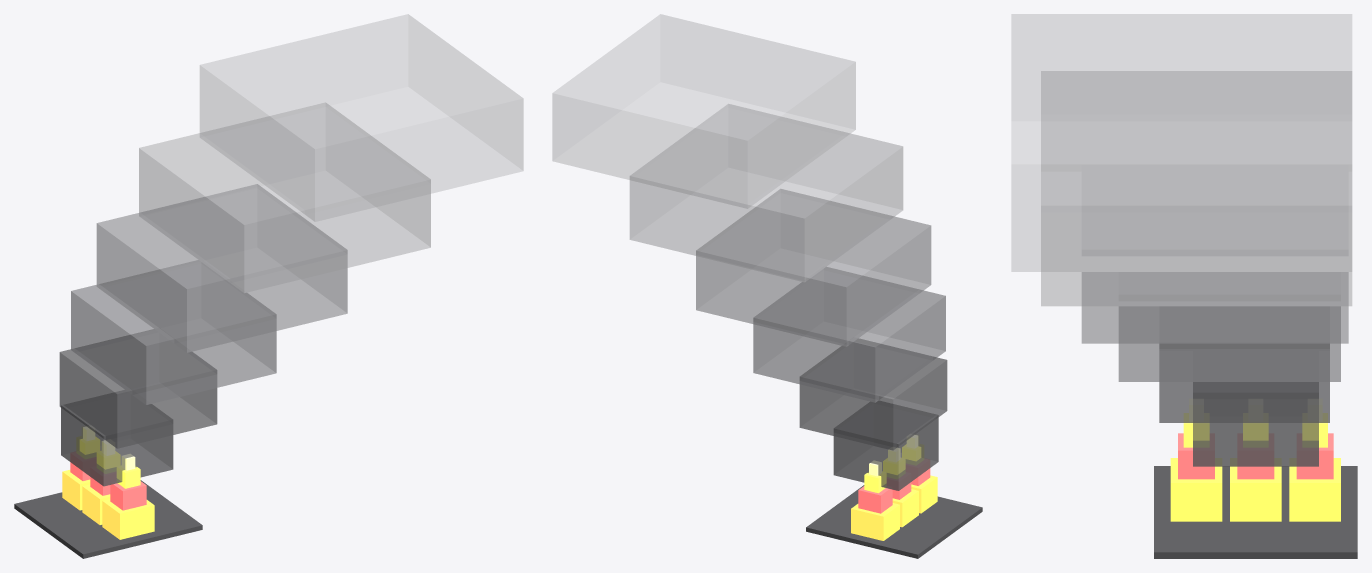
The model's file is AED_FireSeat.gltf.
3 views of the same model, side by side, from view 1: azimuth 30°, elevation 25°; view 2: azimuth 150°, elevation 25°; view 3: azimuth 270°, elevation 25° (orthographic). The views are drawn at different scales.
Parts seen in each view (by area): view 1: AED_FireSeat; view 2: AED_FireSeat; view 3: AED_FireSeat.
Boxes of the visible parts, <box> form: AED_FireSeat: <box>14,14,523,558</box>; AED_FireSeat: <box>552,14,982,558</box>; AED_FireSeat: <box>1011,14,1357,558</box>.
Size of the model in its own units: 18.05 by 17.6 by 9.35.
